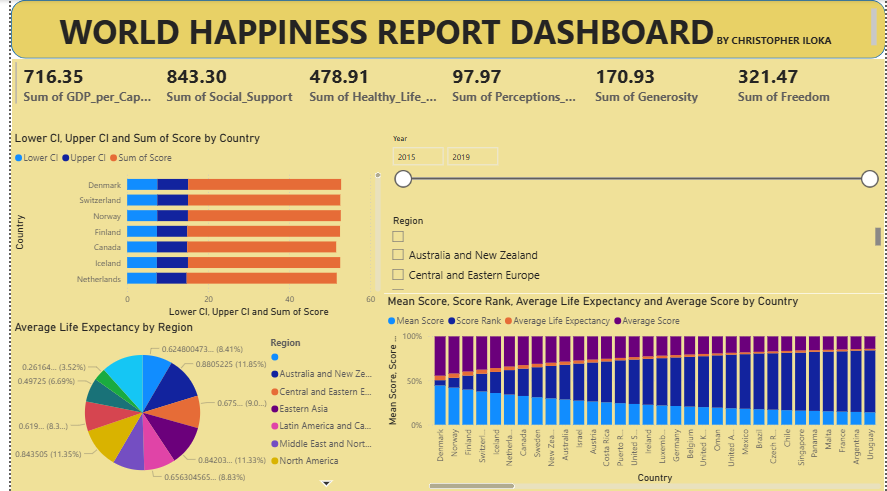

Layout of this report page (visuals, bound fields, positions):
{"tool":"powerbi","page":{"name":"Page 1","canvas":[1280,720],"ordinal":0},"visuals":[{"type":"shape","box":[0,0,1280,85.7],"z":0},{"type":"textbox","box":[8.4,6.7,1263.2,68.9],"z":1},{"type":"multiRowCard","fields":{"Values":["Sum(merged_happiness_data.GDP_per_Capita)","Sum(merged_happiness_data.Social_Support)","Sum(merged_happiness_data.Healthy_Life_Expectancy)","Sum(merged_happiness_data.Perceptions_of_Corruption)","Sum(merged_happiness_data.Generosity)","Sum(merged_happiness_data.Freedom)"]},"box":[1.7,85.7,1276.6,105.8],"z":9},{"type":"barChart","fields":{"Category":["merged_happiness_data.Country"],"Y":["merged_happiness_data.Lower CI","merged_happiness_data.Upper CI","Sum(merged_happiness_data.Score)"]},"box":[0,191.5,545.9,277.2],"z":10},{"type":"slicer","fields":{"Values":["merged_happiness_data.Year"]},"box":[545.9,191.5,732.4,119.3],"z":11},{"type":"slicer","fields":{"Values":["merged_happiness_data.Region"]},"box":[545.9,310.8,732.4,119.3],"z":12},{"type":"pieChart","fields":{"Y":["merged_happiness_data.Average Life Expectancy"],"Series":["merged_happiness_data.Region"]},"box":[0,468.7,545.9,252],"z":13},{"type":"hundredPercentStackedColumnChart","fields":{"Y":["merged_happiness_data.Mean Score","merged_happiness_data.Score Rank","merged_happiness_data.Average Life Expectancy","merged_happiness_data.Average Score"],"Category":["merged_happiness_data.Country"]},"box":[545.9,430,732.4,290.6],"z":14}]}

Visuals, with their boxes in screenshot pixels (x1, y1, x2, y2), scaled from the page's 1280x720 canvas onto the 887x491 screenshot:
shape: l=0, t=0, r=886, b=58
textbox: l=6, t=5, r=881, b=52
multiRowCard - Sum(merged_happiness_data.GDP_per_Capita) x Sum(merged_happiness_data.Social_Support): l=1, t=58, r=886, b=131
barChart - merged_happiness_data.Country x merged_happiness_data.Lower CI: l=0, t=131, r=378, b=320
slicer - merged_happiness_data.Year: l=378, t=131, r=886, b=212
slicer - merged_happiness_data.Region: l=378, t=212, r=886, b=293
pieChart - merged_happiness_data.Average Life Expectancy x merged_happiness_data.Region: l=0, t=320, r=378, b=490
hundredPercentStackedColumnChart - merged_happiness_data.Mean Score x merged_happiness_data.Score Rank: l=378, t=293, r=886, b=490
